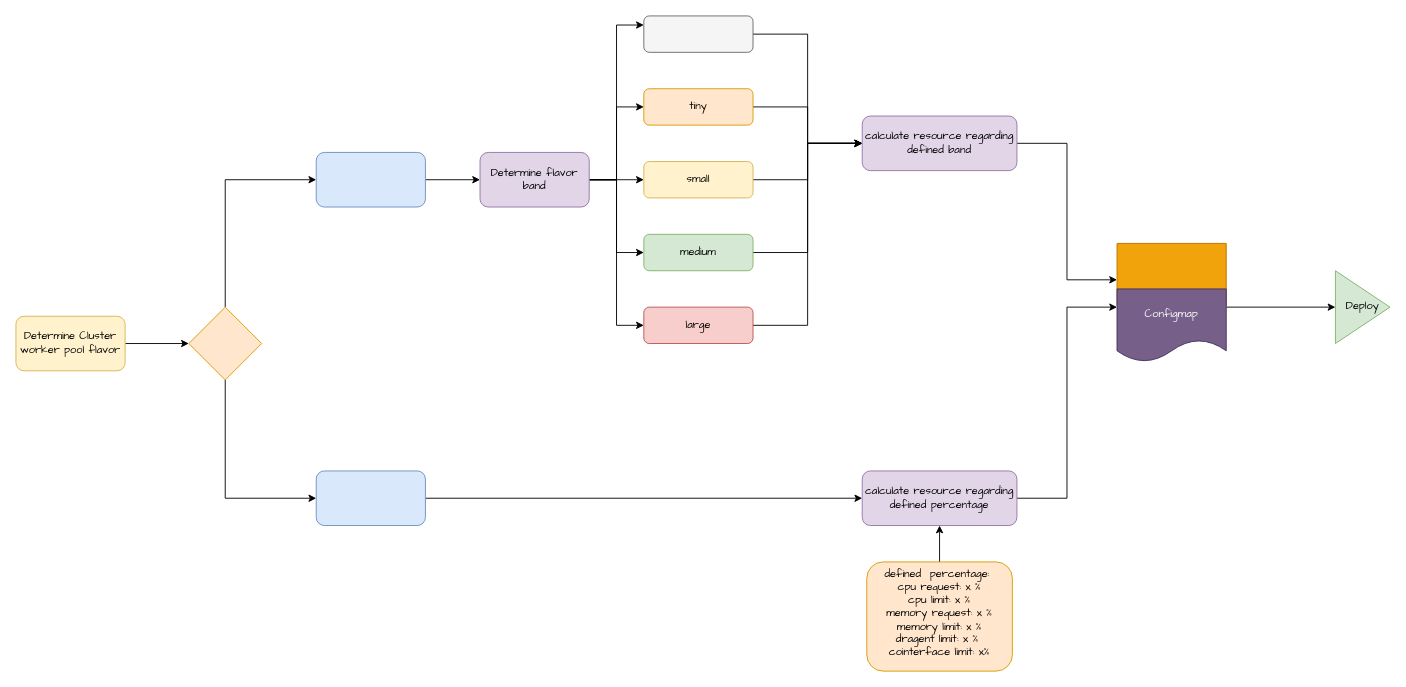
Image size: 1406x687. Some labels were removed from this diagram. Here are the shapes that lost their labels. From the top down, the centre of each, then its label:
the point at 698,33: mini
the point at 370,179: Static
the point at 1171,279: Daemonset
the point at 225,343: Sizing Strategy
the point at 370,498: Dynamic
